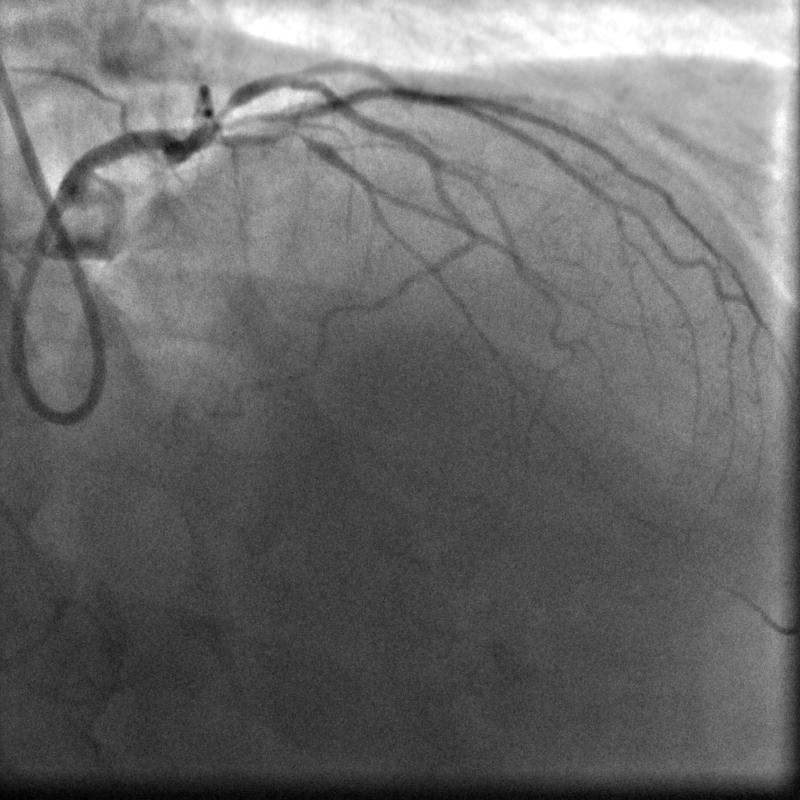Stenosis: (210, 95, 235, 127)
